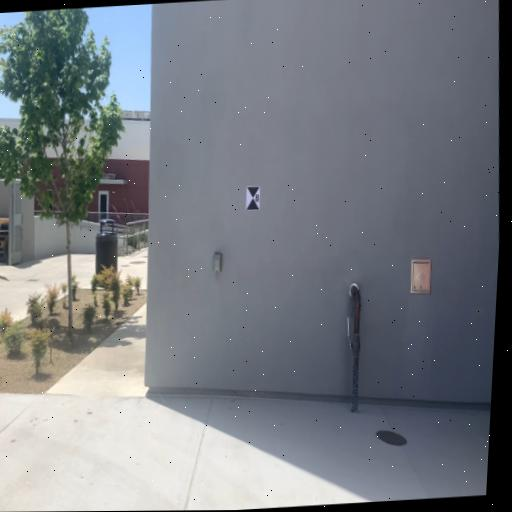target8: (245, 184, 261, 212)
